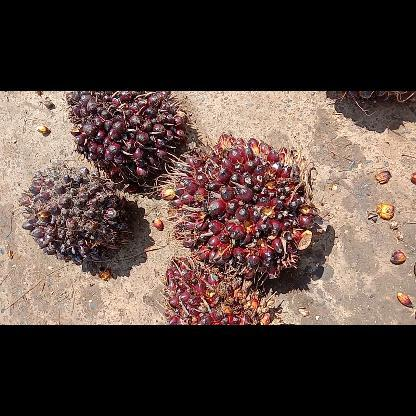Kurang masak: (160, 134, 314, 284), (67, 91, 189, 185), (20, 168, 138, 264), (160, 256, 280, 324)
